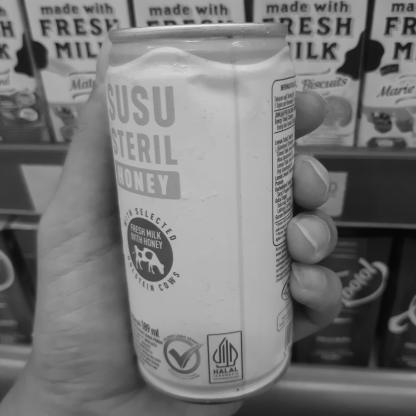alumunium_can: (88, 22, 327, 396)
